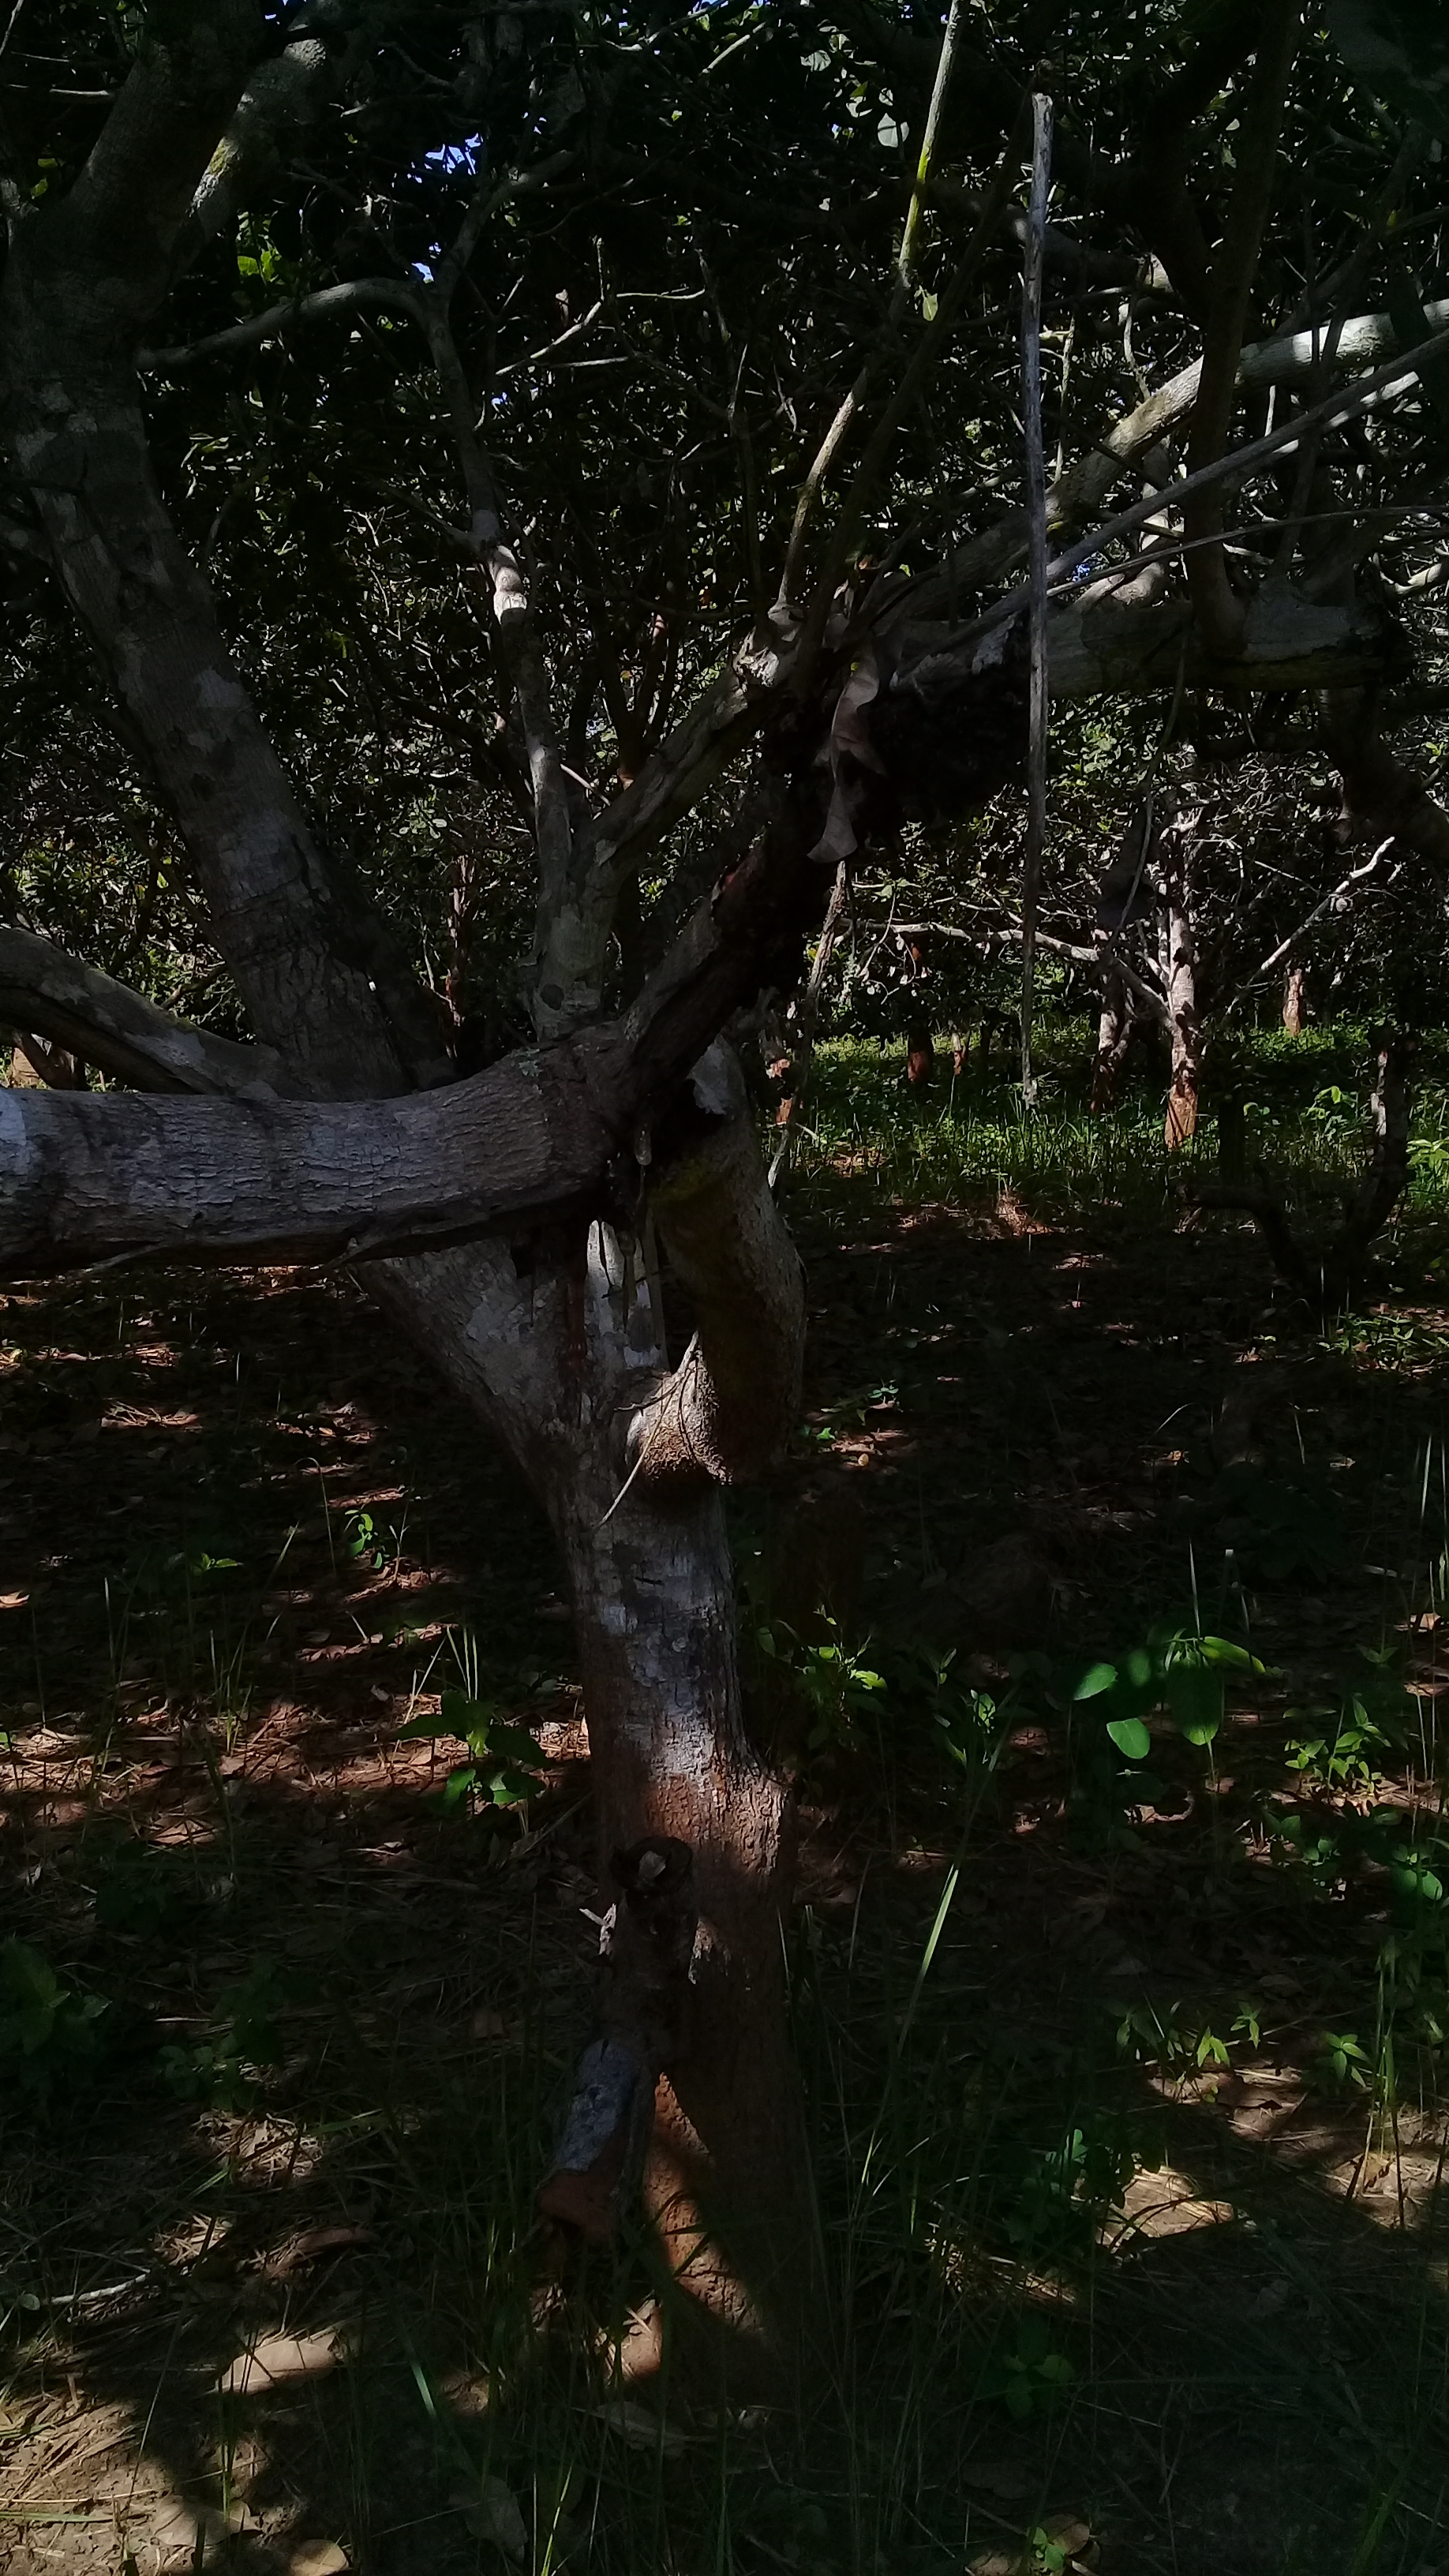Termites: (602, 1753, 835, 2318)
